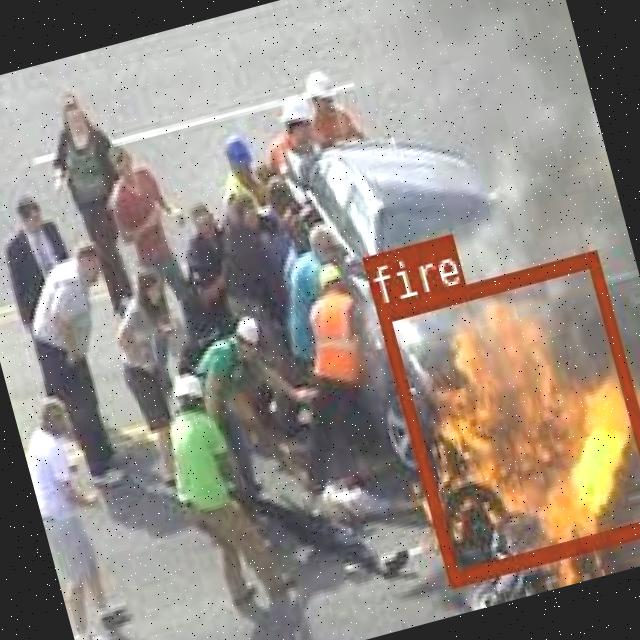fire: (375, 250, 640, 584)
